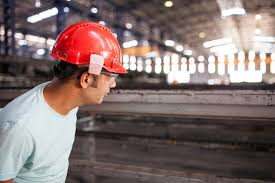Person_wearing_helmet: (44, 19, 129, 74)
